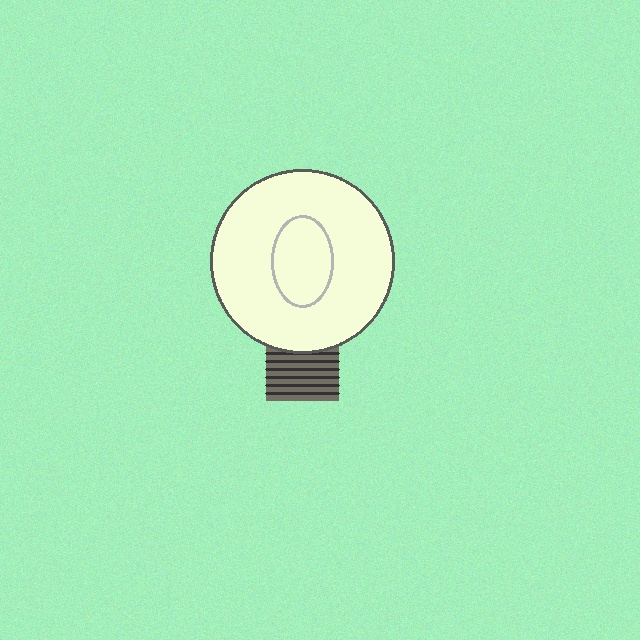bulb: (206, 165, 398, 405)
